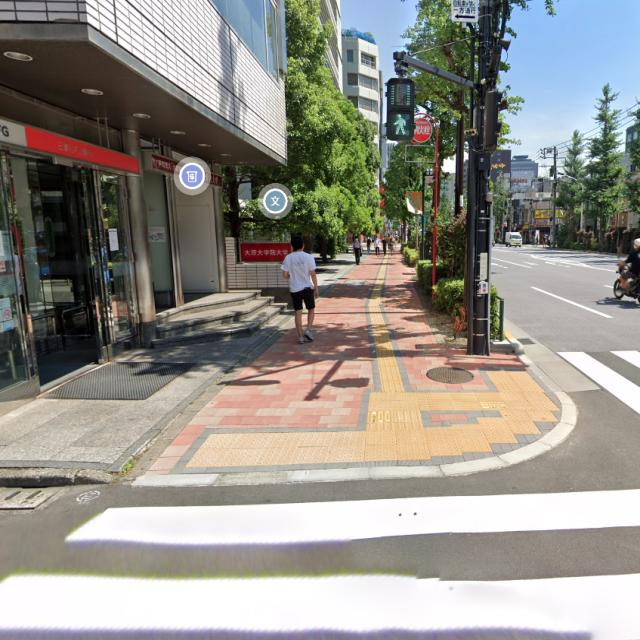traffic-light: (381, 76, 412, 148)
